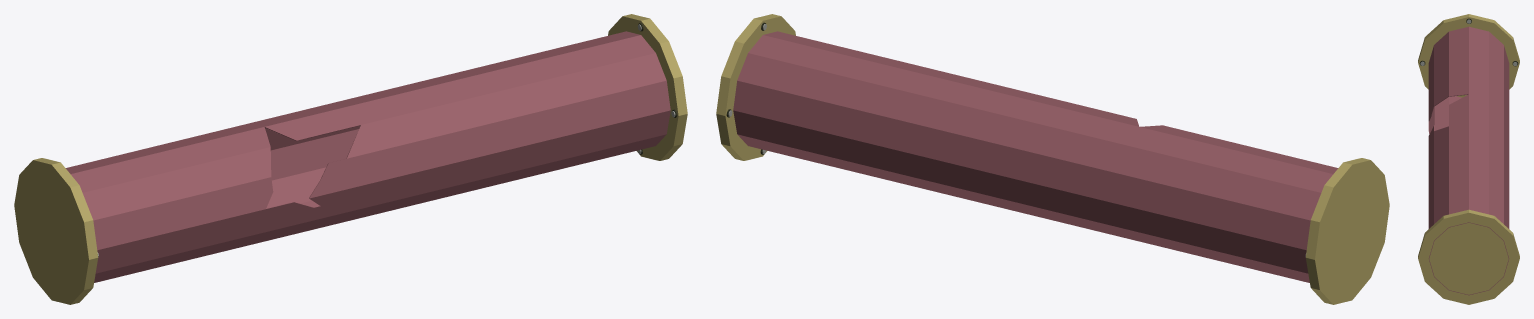
The model's file is Pipe_Long_Broken_M.fbx.
3 views of the same model, side by side, from view 1: azimuth 30°, elevation 25°; view 2: azimuth 150°, elevation 25°; view 3: azimuth 270°, elevation 25° (orthographic). The views are drawn at different scales.
Visible parts, largest first — view 1: Pipe_Long_damaged_M, Cylinder.164, Cylinder.169; view 2: Pipe_Long_damaged_M, Cylinder.164, Cylinder.169; view 3: Pipe_Long_damaged_M, Cylinder.169, Cylinder.164.
Part boxes in pixels (box(x1,y1,x2,y2)): Pipe_Long_damaged_M: box(65, 31, 670, 282); Cylinder.164: box(14, 158, 98, 304); Cylinder.169: box(608, 14, 687, 160); Pipe_Long_damaged_M: box(733, 31, 1338, 282); Cylinder.164: box(1305, 158, 1389, 304); Cylinder.169: box(716, 14, 795, 160); Pipe_Long_damaged_M: box(1428, 26, 1509, 295); Cylinder.169: box(1418, 209, 1519, 304); Cylinder.164: box(1418, 14, 1519, 97).
Size of the model in its own units: 70 by 15.16 by 15.16.
